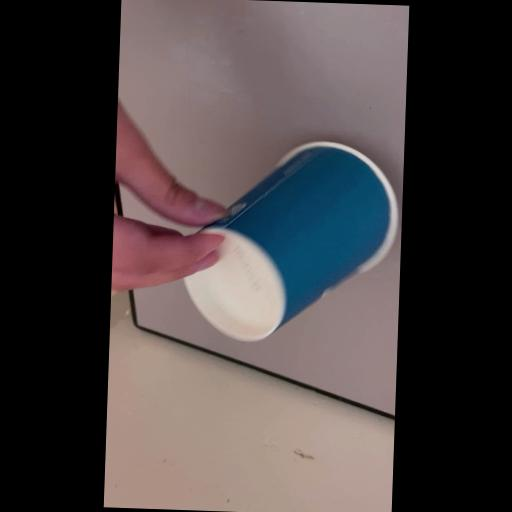lp_paper_cup: (179, 138, 404, 346)
